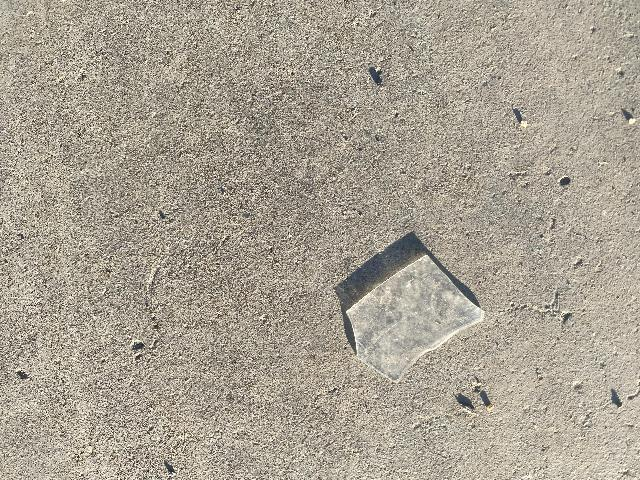Cam: (338, 248, 495, 384)
